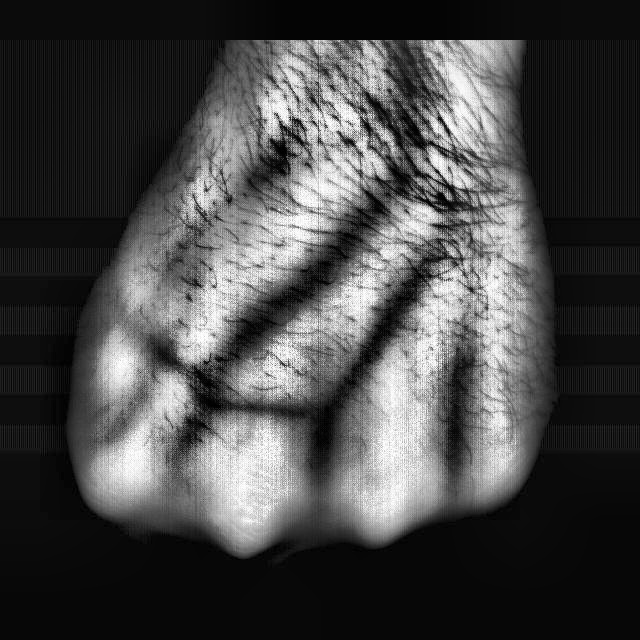Vein: (213, 202, 388, 368), (334, 205, 475, 399)
